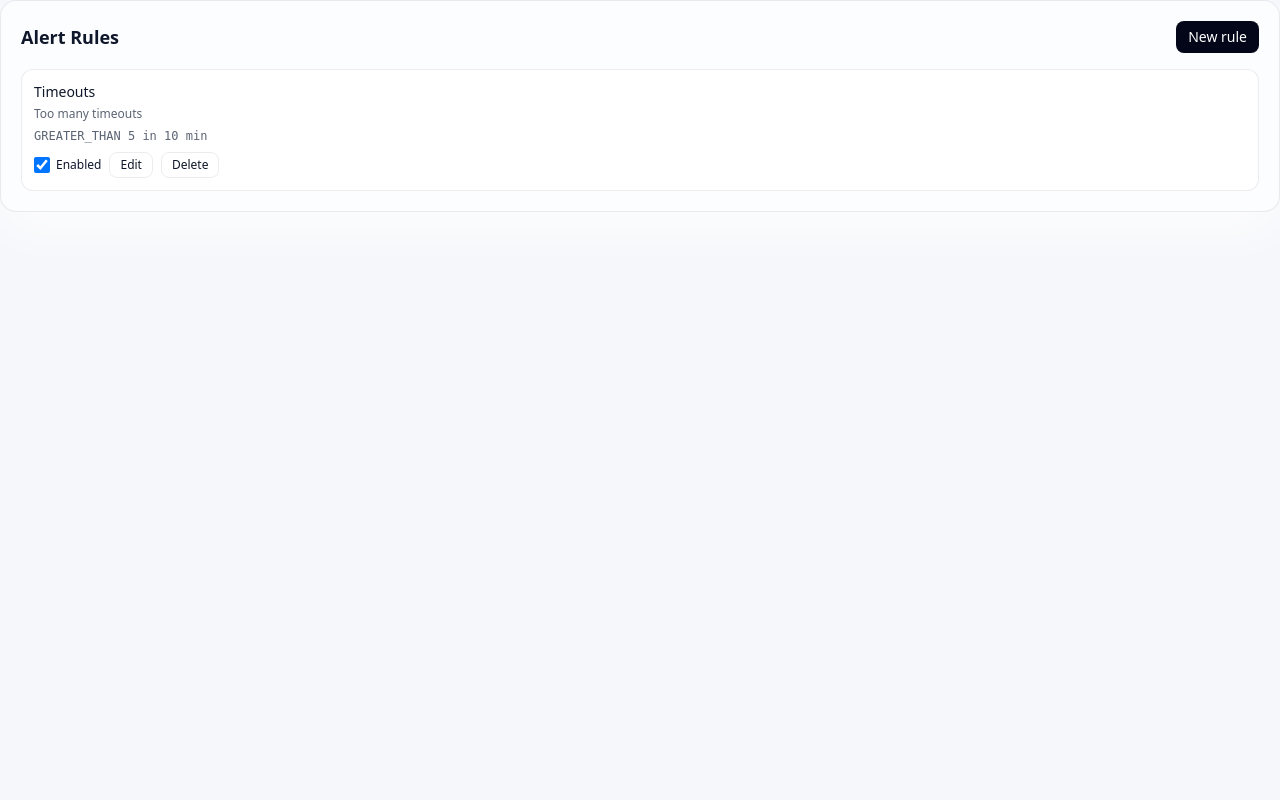
Test: AlertRulesPanel › shows an error when the delete fails
What coordinates should you click on to do the following:
click the button "Delete"
I would click on:
 (190, 165)
Its box is 161,152 -> 219,178.
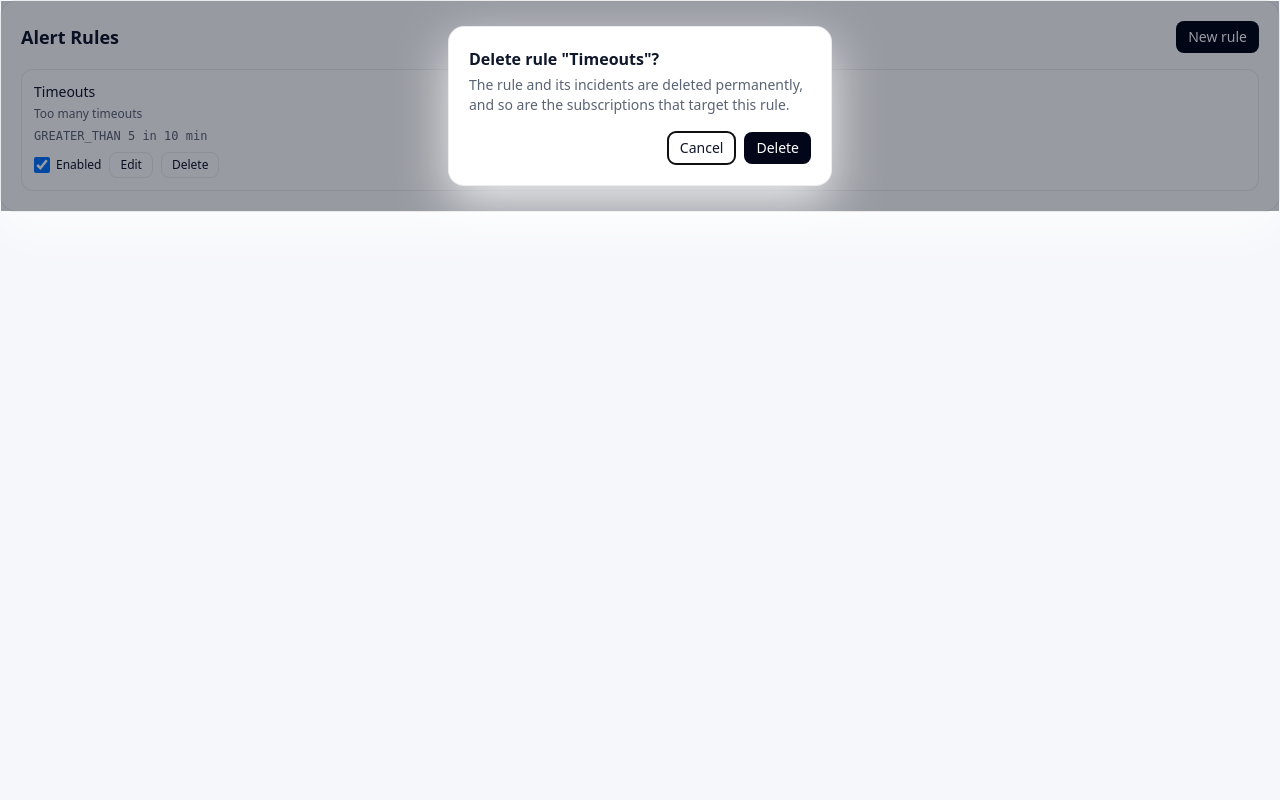
What coordinates should you click on to do the following:
click the button "Delete"
I would click on:
 (778, 148)
Its box is 744,132 -> 811,164.
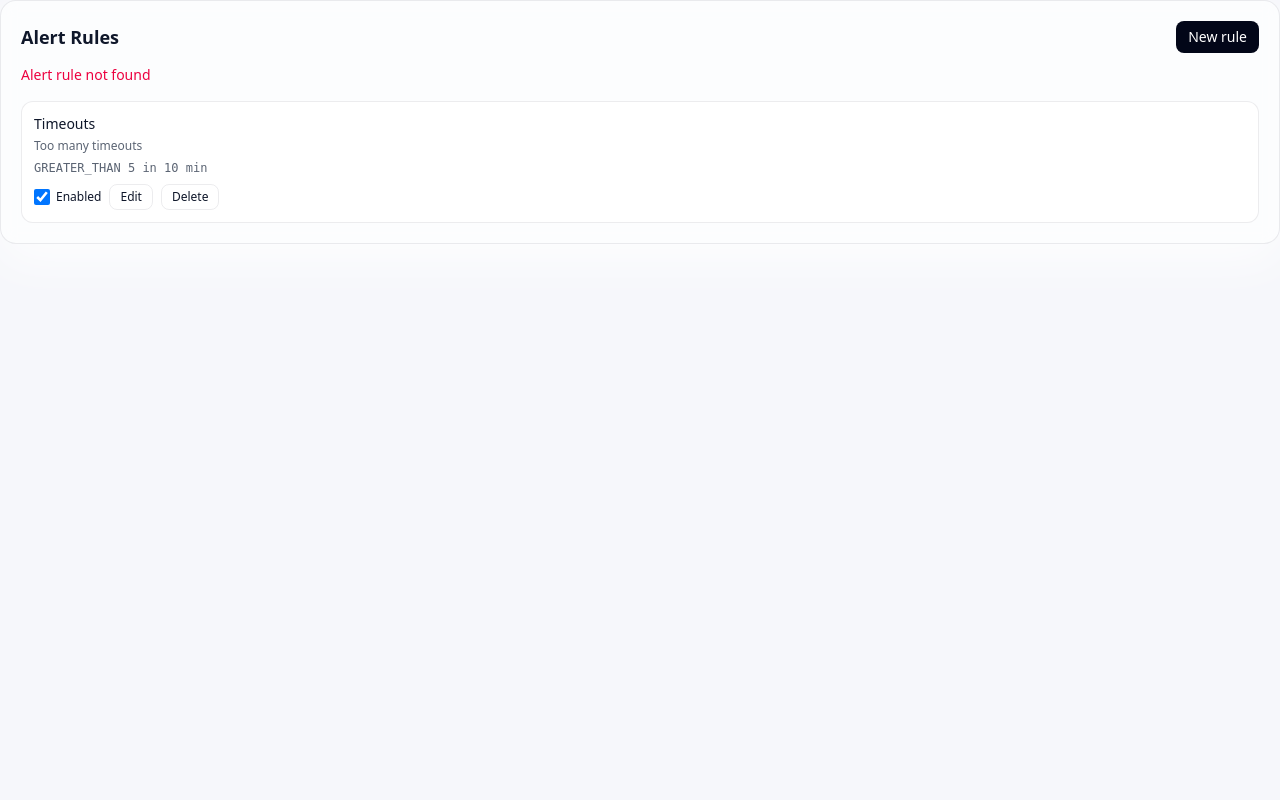
Result: the message reads "Alert rule not found" at 21,65 -> 150,84
